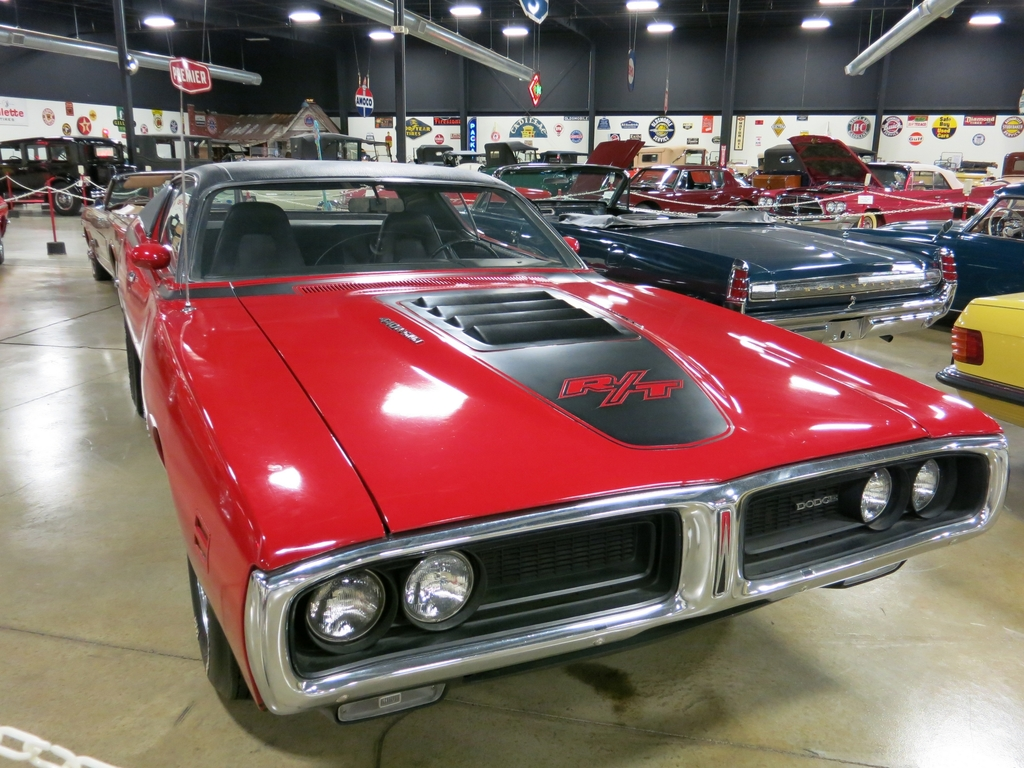Car: (49, 165, 977, 714), (0, 131, 1023, 343), (933, 285, 1023, 430)
